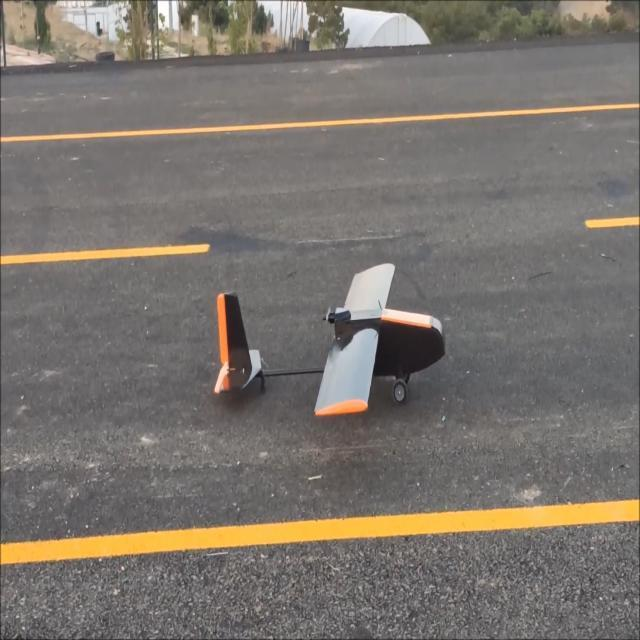iha: (201, 260, 445, 424)
